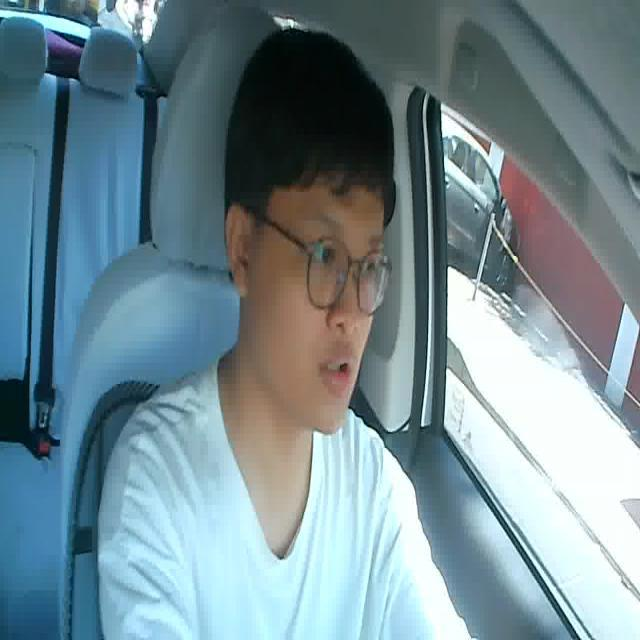Attentive: (227, 25, 400, 439)
Eye-Open: (312, 243, 336, 268), (358, 257, 381, 280)
Normal: (316, 345, 358, 394)
